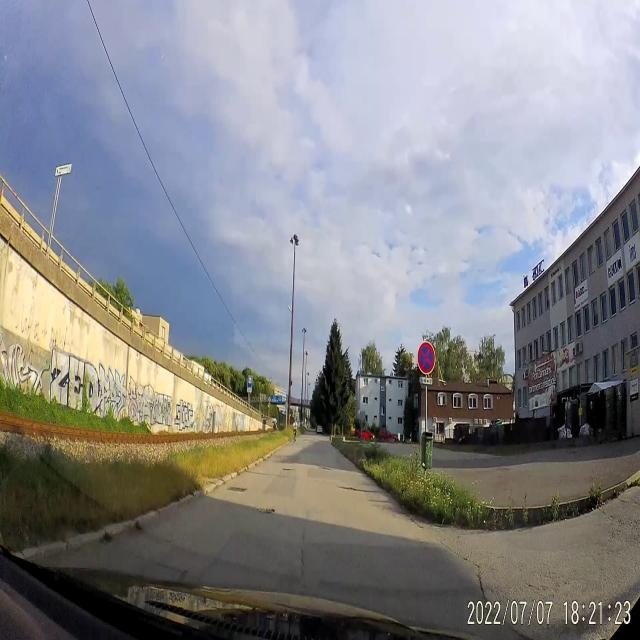Manhole: (224, 482, 250, 496)
Pothole: (387, 510, 417, 529), (258, 502, 274, 518), (320, 463, 334, 474), (281, 465, 295, 475)
